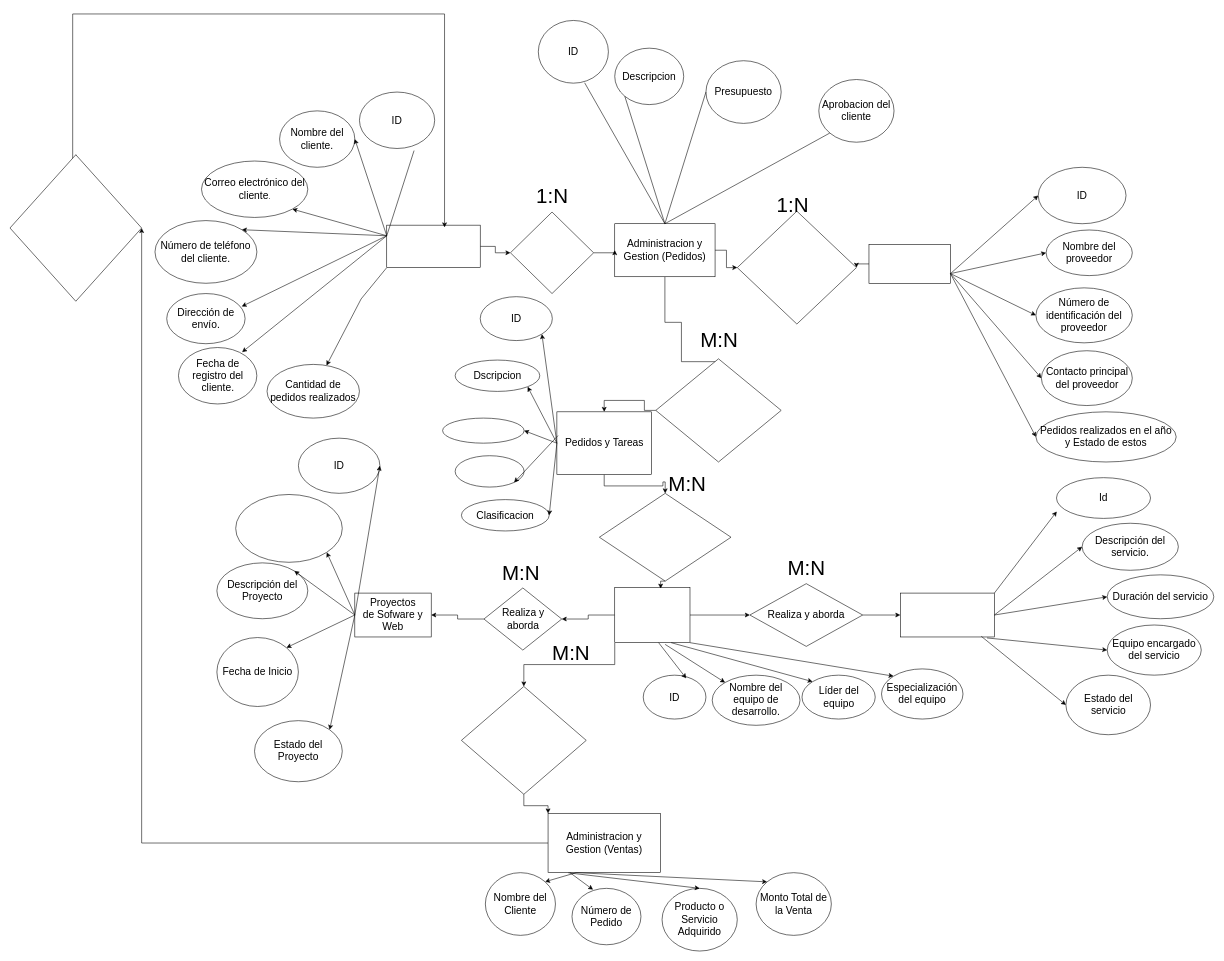
Image size: 1224x961. Some labels were removed from this diagram. The shapes that lost their labels are listed below. From the top down, each one's centre as x and y in pixels, then its label:
[75,227]: Entrega y cobro
[433,246]: Clientes
[552,252]: Pedido
[796,267]: Pedidos Materias necesarias
[909,263]: Proveedores
[483,430]: Equipo asignado
[718,410]: Distribucion de tareas y Pedidos
[489,471]: Tiempo asignado
[288,528]: Cantidad de recursos necesarios
[665,537]: Organizacion y comunicacion de equipo
[652,615]: Equipos de Desarrollo
[947,615]: Servicios de mantenimiento
[523,740]: Informa y entregapara evalar
